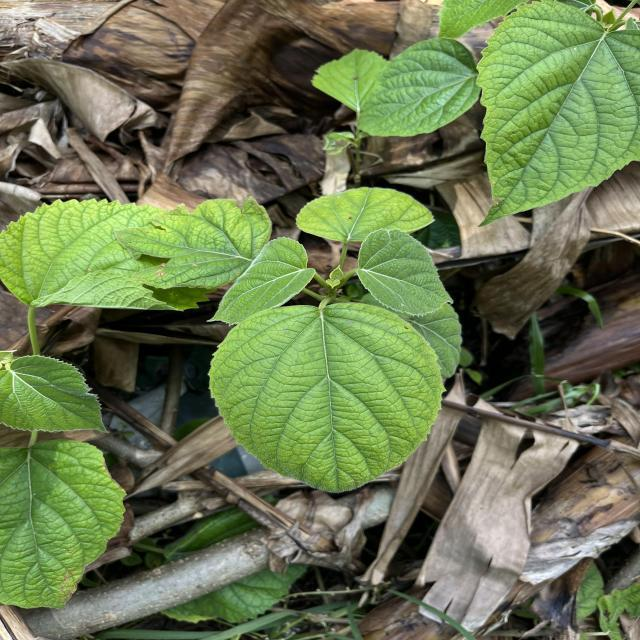Clerodendrum infortunatum: (205, 300, 450, 495), (473, 0, 640, 229), (0, 192, 206, 318), (354, 36, 480, 137), (206, 235, 316, 325), (0, 352, 113, 437), (356, 228, 456, 318), (294, 185, 438, 242)
